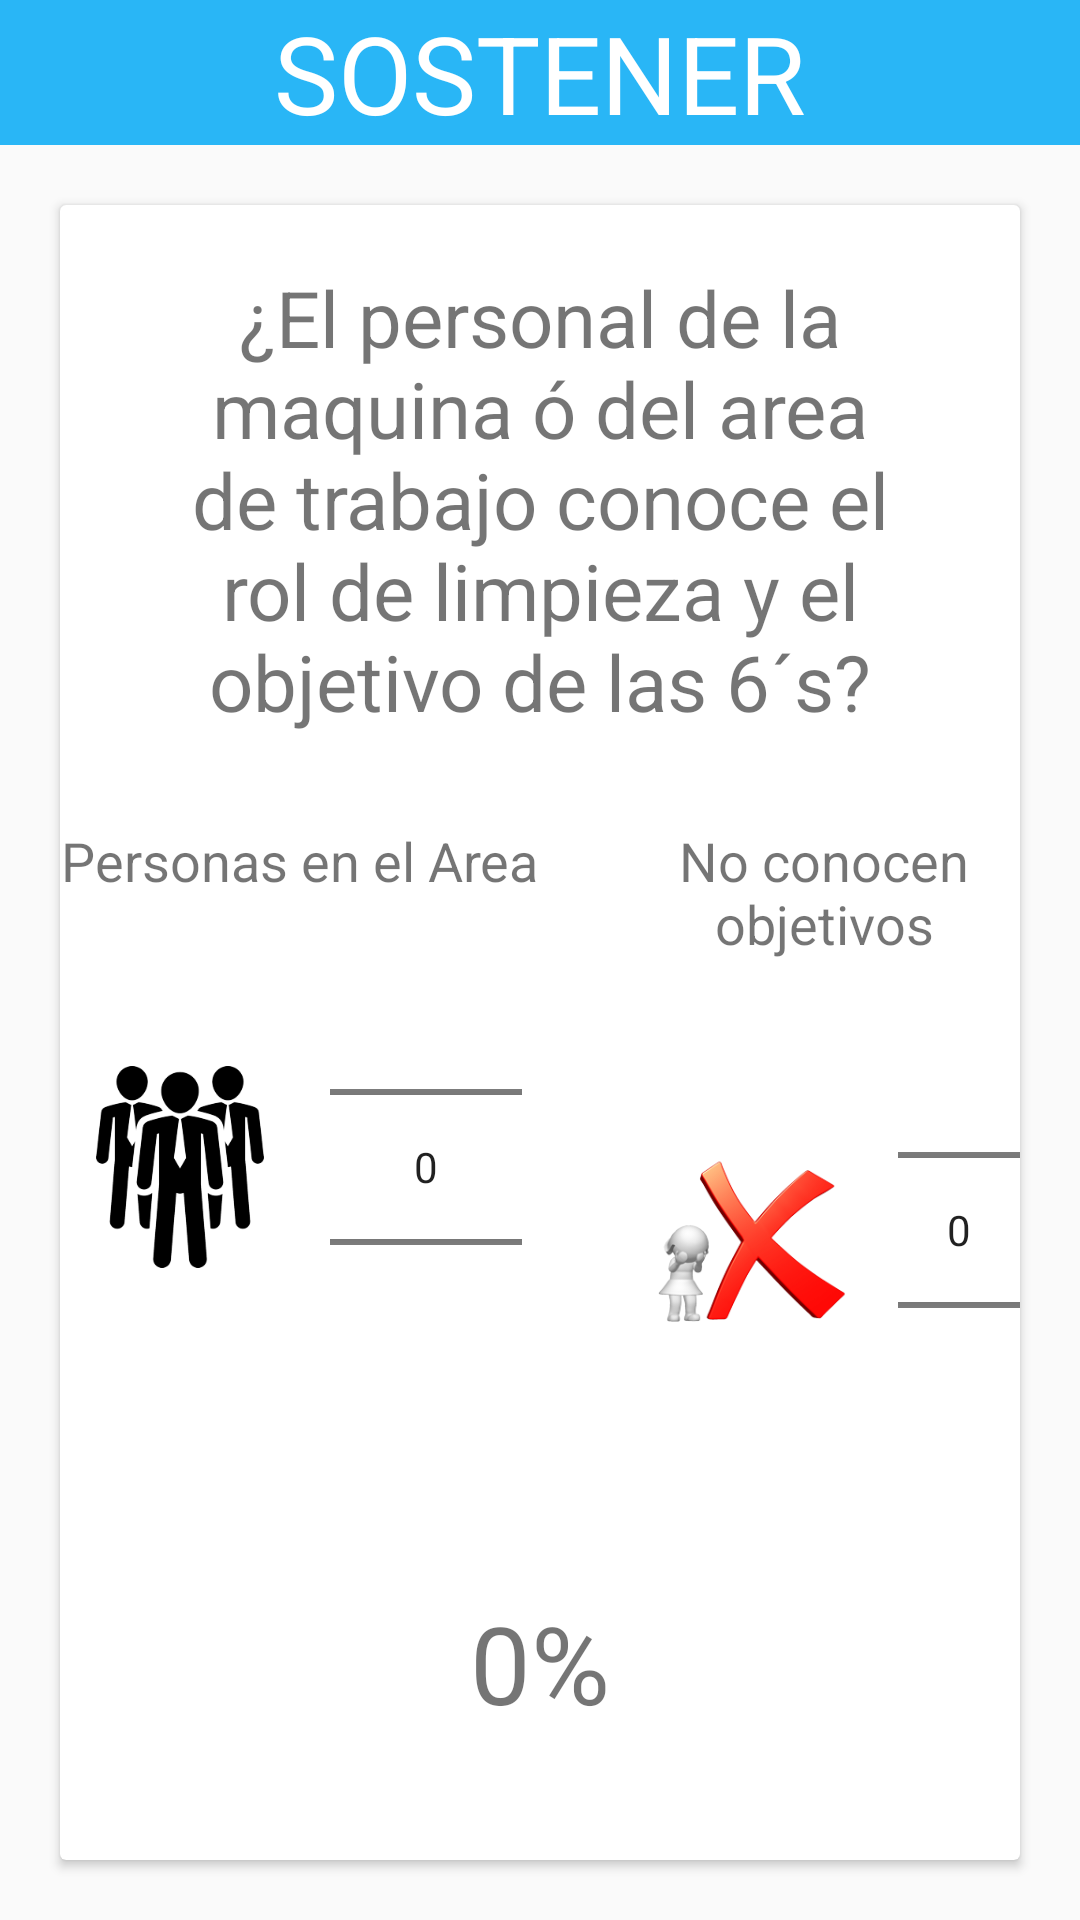

Icon bounding boxes for this 1080*1920 phone screenshot, format bbox=(x1, y1, x2, y2):
fail: bbox=(659, 1161, 845, 1322)
